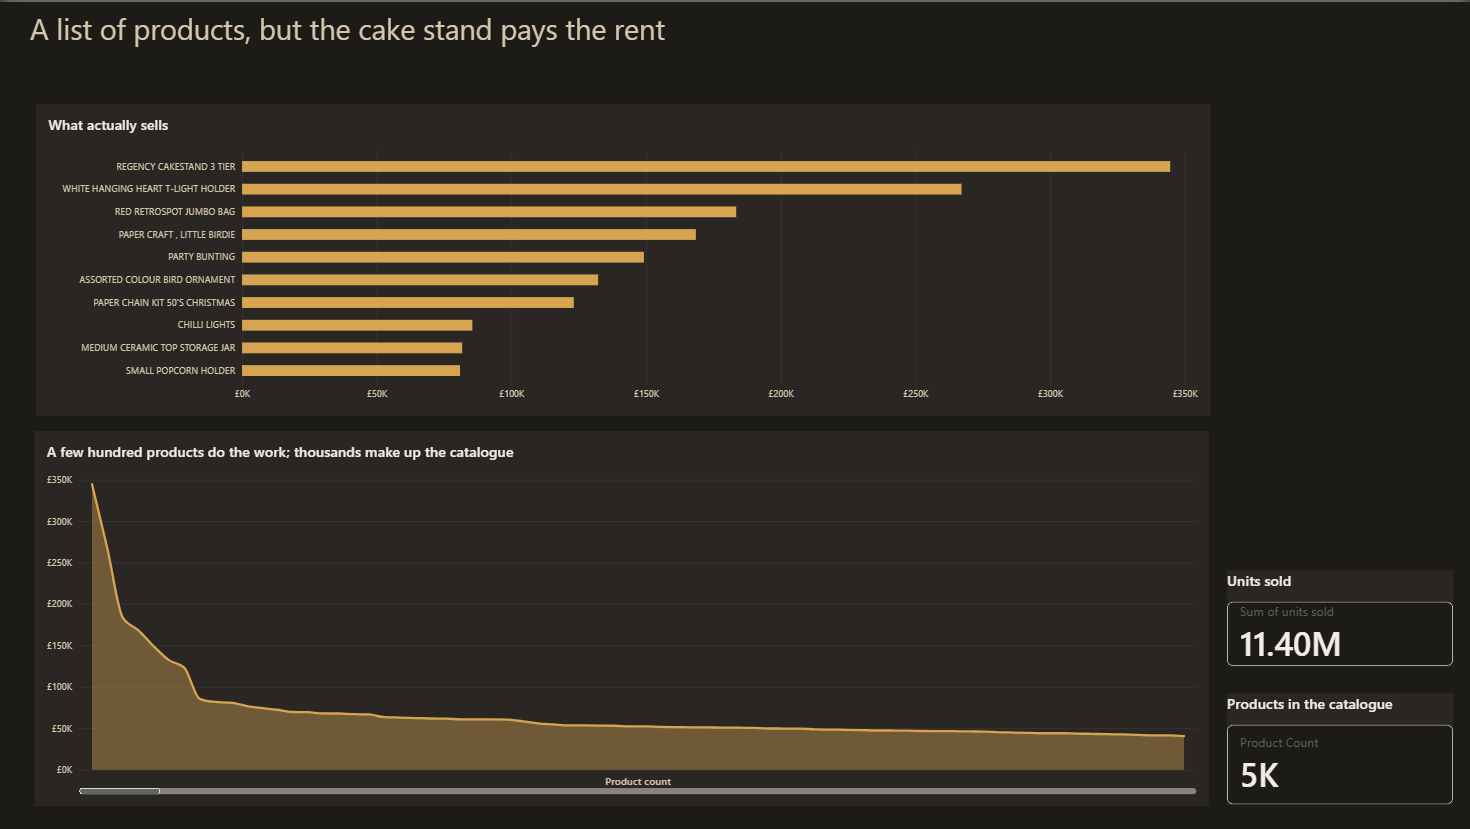

The dashboard page shown, as its layout file describes it:
{"tool":"powerbi","page":{"name":"The Long Tail","canvas":[1920,1080],"ordinal":2},"visuals":[{"type":"clusteredBarChart","title":"What actually sells","fields":{"Category":["fct_product_performance.product_description"],"Y":["fct_product_performance.Product Revenue"]},"box":[47.5,132.5,1532.5,407.5],"z":0},{"type":"areaChart","title":"A few hundred products do the work; thousands make up the catalogue","fields":{"Category":["fct_product_performance.product_description"],"Y":["fct_product_performance.Product Revenue"]},"box":[45,560,1532.5,490],"z":1},{"type":"cardVisual","title":"Products in the catalogue","fields":{"Data":["fct_product_performance.Product Count"]},"box":[1602.5,902.5,295,145],"z":2},{"type":"cardVisual","title":"Units sold","fields":{"Data":["Sum(fct_product_performance.units_sold)"]},"box":[1602.5,742.5,295,125],"z":4},{"type":"textbox","box":[40,10,847.5,97.5],"z":5}]}

Visuals, with their boxes in screenshot pixels (x1, y1, x2, y2), scaled from the page's 1920x1080 canvas onto the 1470x829 screenshot:
"What actually sells" clusteredBarChart: rect(36, 102, 1210, 414)
"A few hundred products do the work; thousands make up the catalogue" areaChart: rect(34, 430, 1208, 806)
"Products in the catalogue" cardVisual: rect(1227, 693, 1453, 804)
"Units sold" cardVisual: rect(1227, 570, 1453, 666)
textbox: rect(31, 8, 679, 83)
